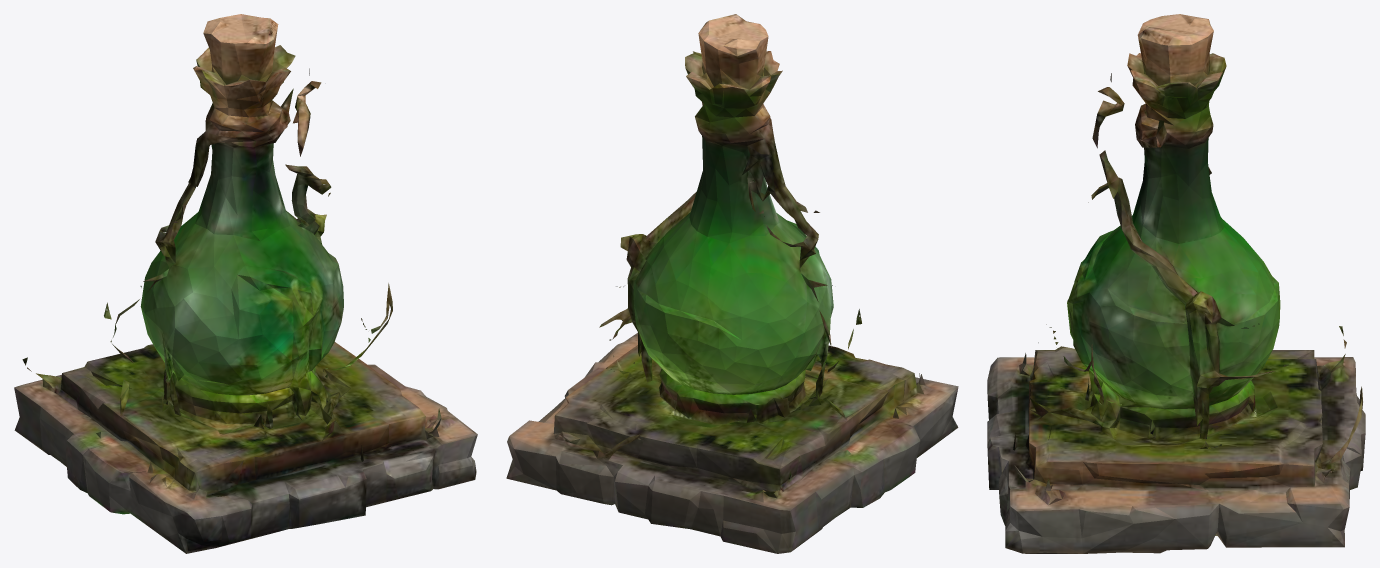
File: potion_green_vine_base_lod0.glb
3 views of the same model, side by side, from view 1: azimuth 30°, elevation 25°; view 2: azimuth 150°, elevation 25°; view 3: azimuth 270°, elevation 25° (orthographic). The views are drawn at different scales.
Visible parts, largest first — view 1: potion_green_vine_base_lod0; view 2: potion_green_vine_base_lod0; view 3: potion_green_vine_base_lod0.
Boxes of the visible parts, x1,y1,x2,y2 form: potion_green_vine_base_lod0: (14,14,477,553); potion_green_vine_base_lod0: (506,14,958,553); potion_green_vine_base_lod0: (987,14,1365,553).
Size of the model in its own units: 0.5415 by 0.7009 by 0.5287.
1 material, 1 textured.
